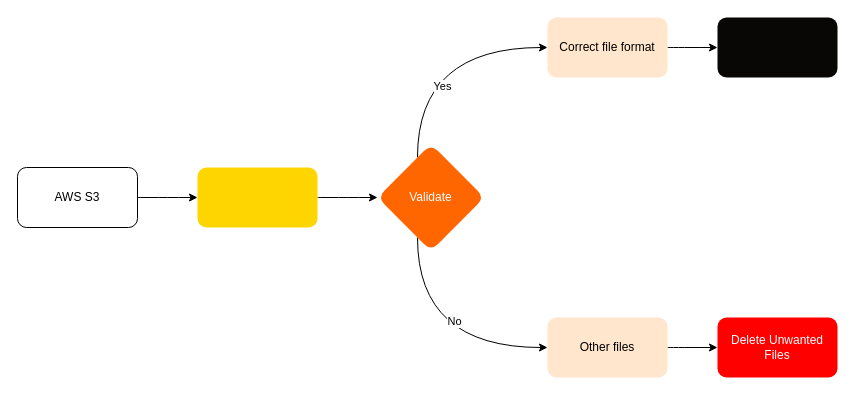
This 855x394 diagram has some shape labels left out. Here are the shapes that lost their labels. From the top down, the centre of each, then its label:
At pixel 777 47: "S3 Data Mart / MySQL".
At pixel 257 197: "Download locally".
